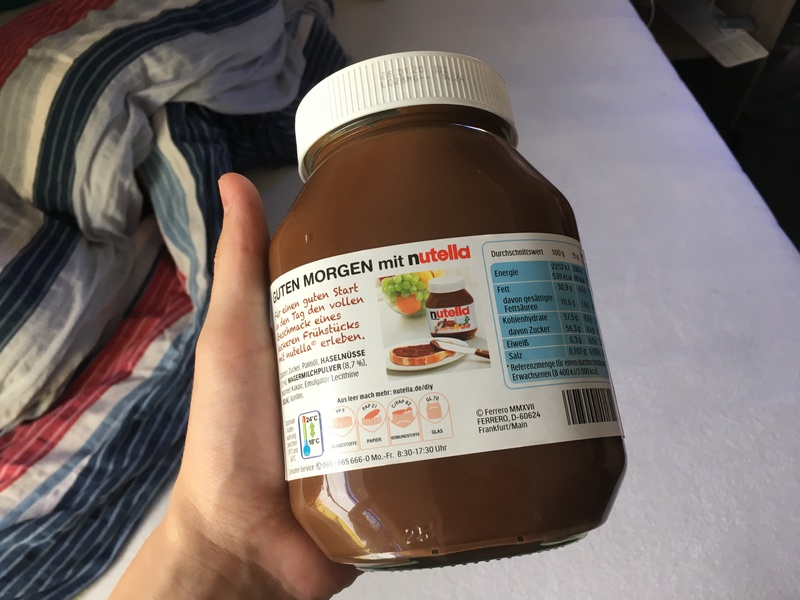nutella: (268, 50, 627, 572)
